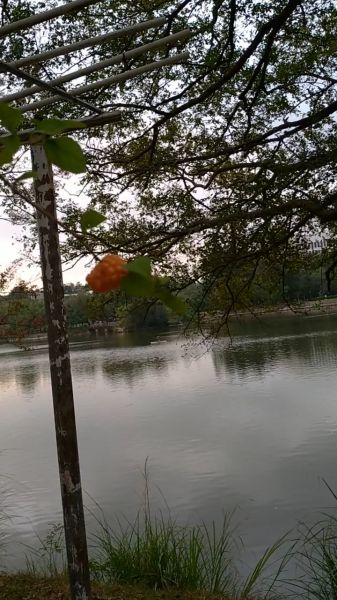eggs: (85, 250, 136, 298)
